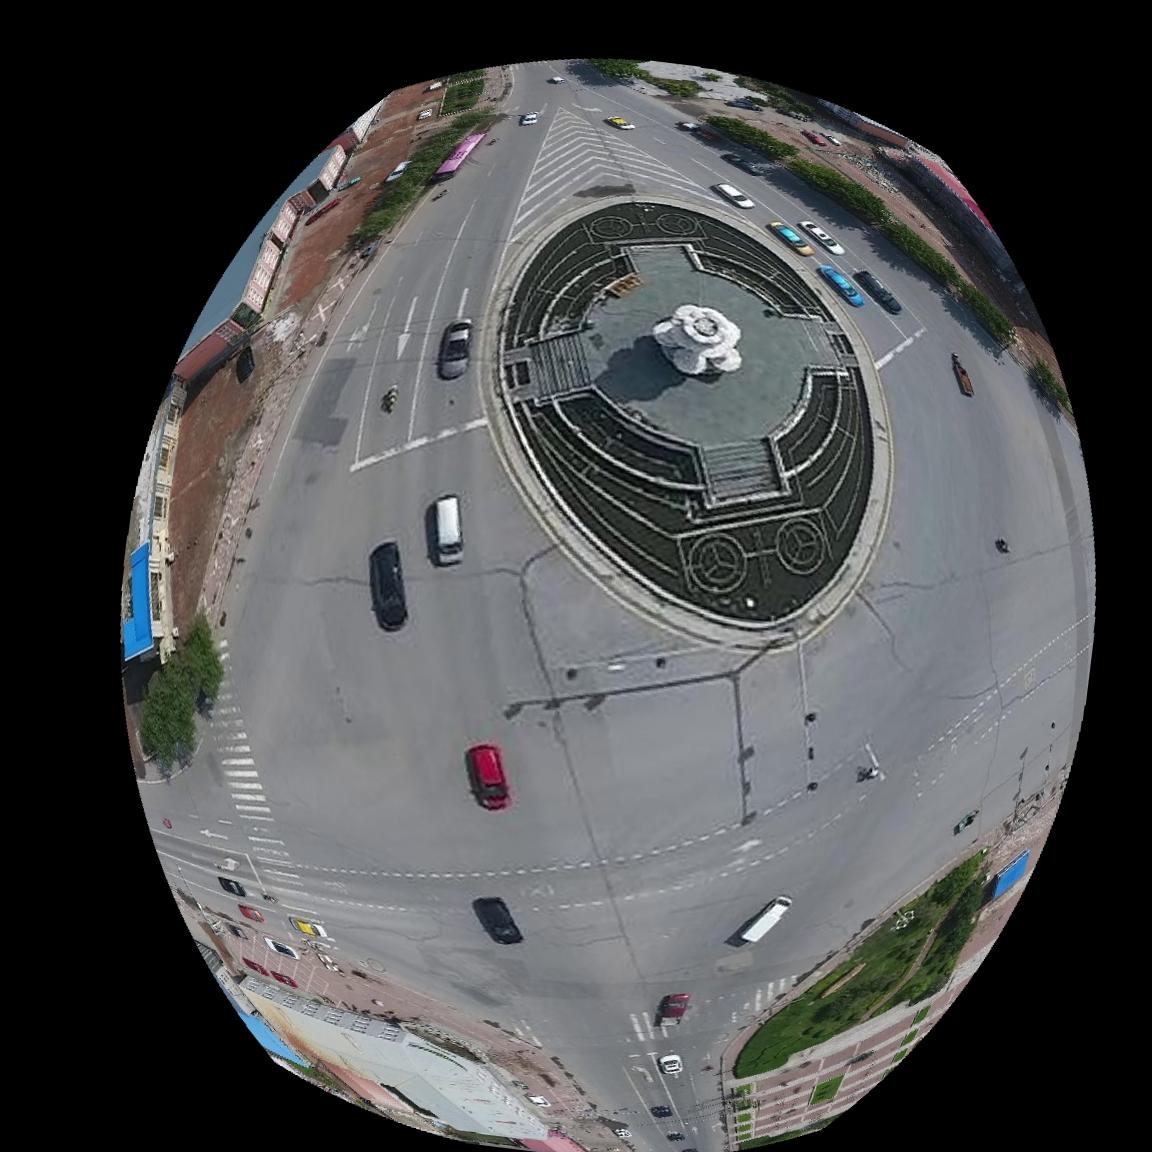building: (235, 976, 584, 1152), (174, 97, 384, 380), (120, 375, 185, 659), (983, 850, 1032, 903)
cars: (727, 896, 792, 946), (369, 540, 406, 630), (464, 742, 512, 810), (430, 130, 485, 178), (425, 493, 462, 563), (473, 897, 522, 945), (436, 318, 472, 378), (855, 267, 902, 312), (819, 262, 866, 304), (769, 218, 815, 253), (799, 218, 846, 252), (654, 992, 691, 1028), (712, 179, 754, 206), (657, 1053, 684, 1077), (604, 114, 635, 127), (650, 1106, 674, 1119)
trees: (734, 850, 988, 1078), (139, 616, 222, 768), (786, 153, 896, 223), (881, 216, 960, 285), (568, 55, 703, 95), (952, 276, 1018, 346), (1026, 358, 1079, 435), (708, 113, 799, 156)
